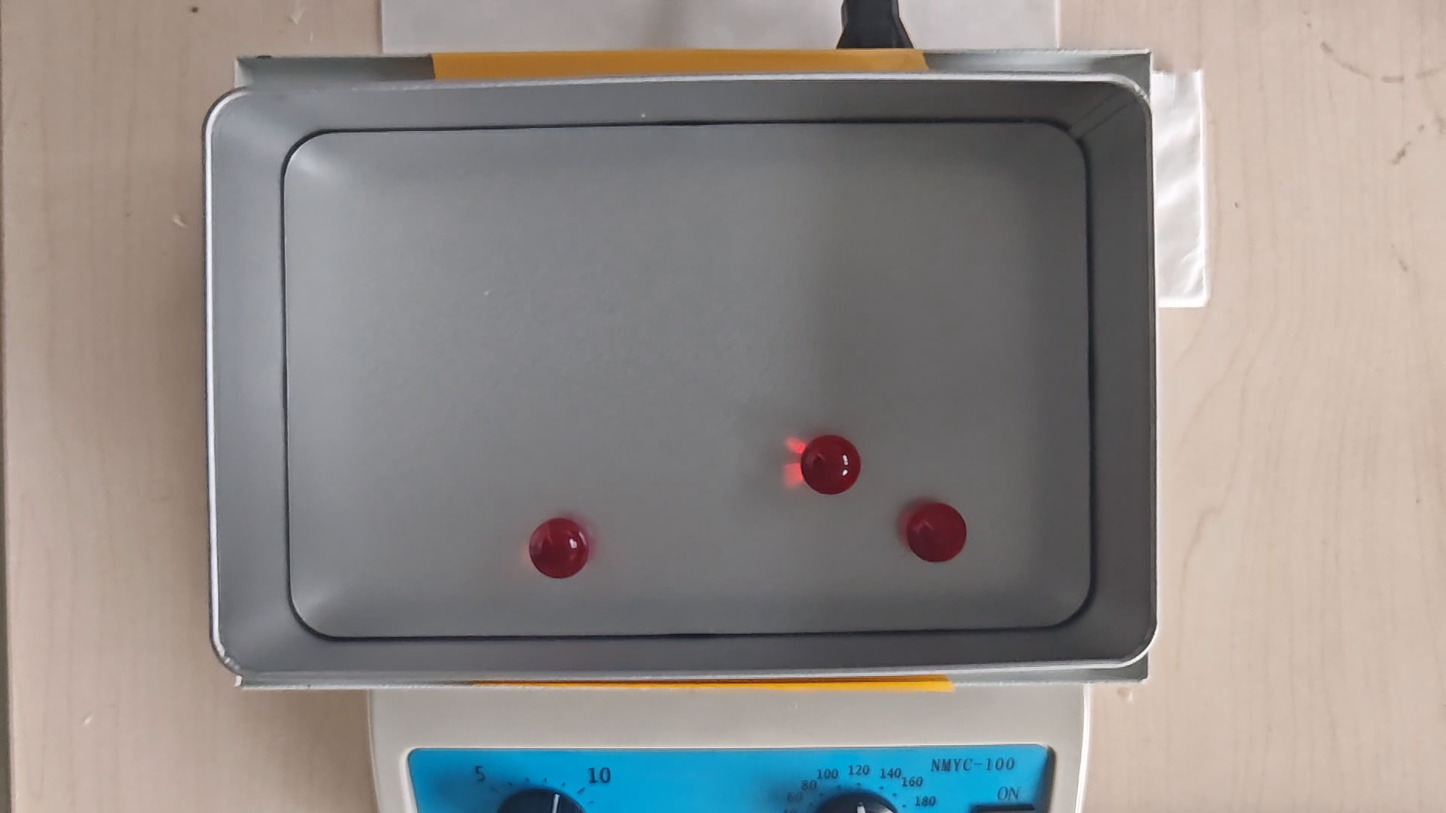ball: (527, 518, 590, 579), (801, 435, 860, 496), (908, 504, 967, 563)
container: (285, 122, 1091, 636)
